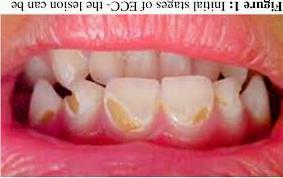Caries: (98, 94, 143, 136), (58, 87, 82, 115), (186, 103, 217, 124), (33, 107, 56, 127)
